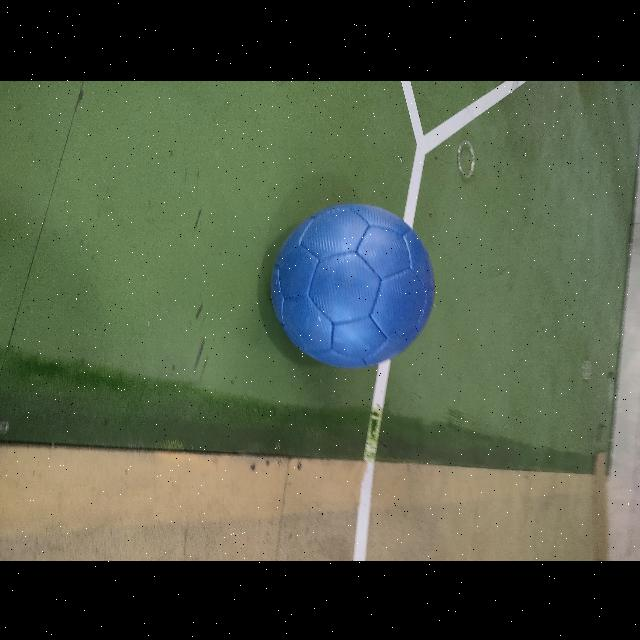B: (272, 204, 434, 366)
